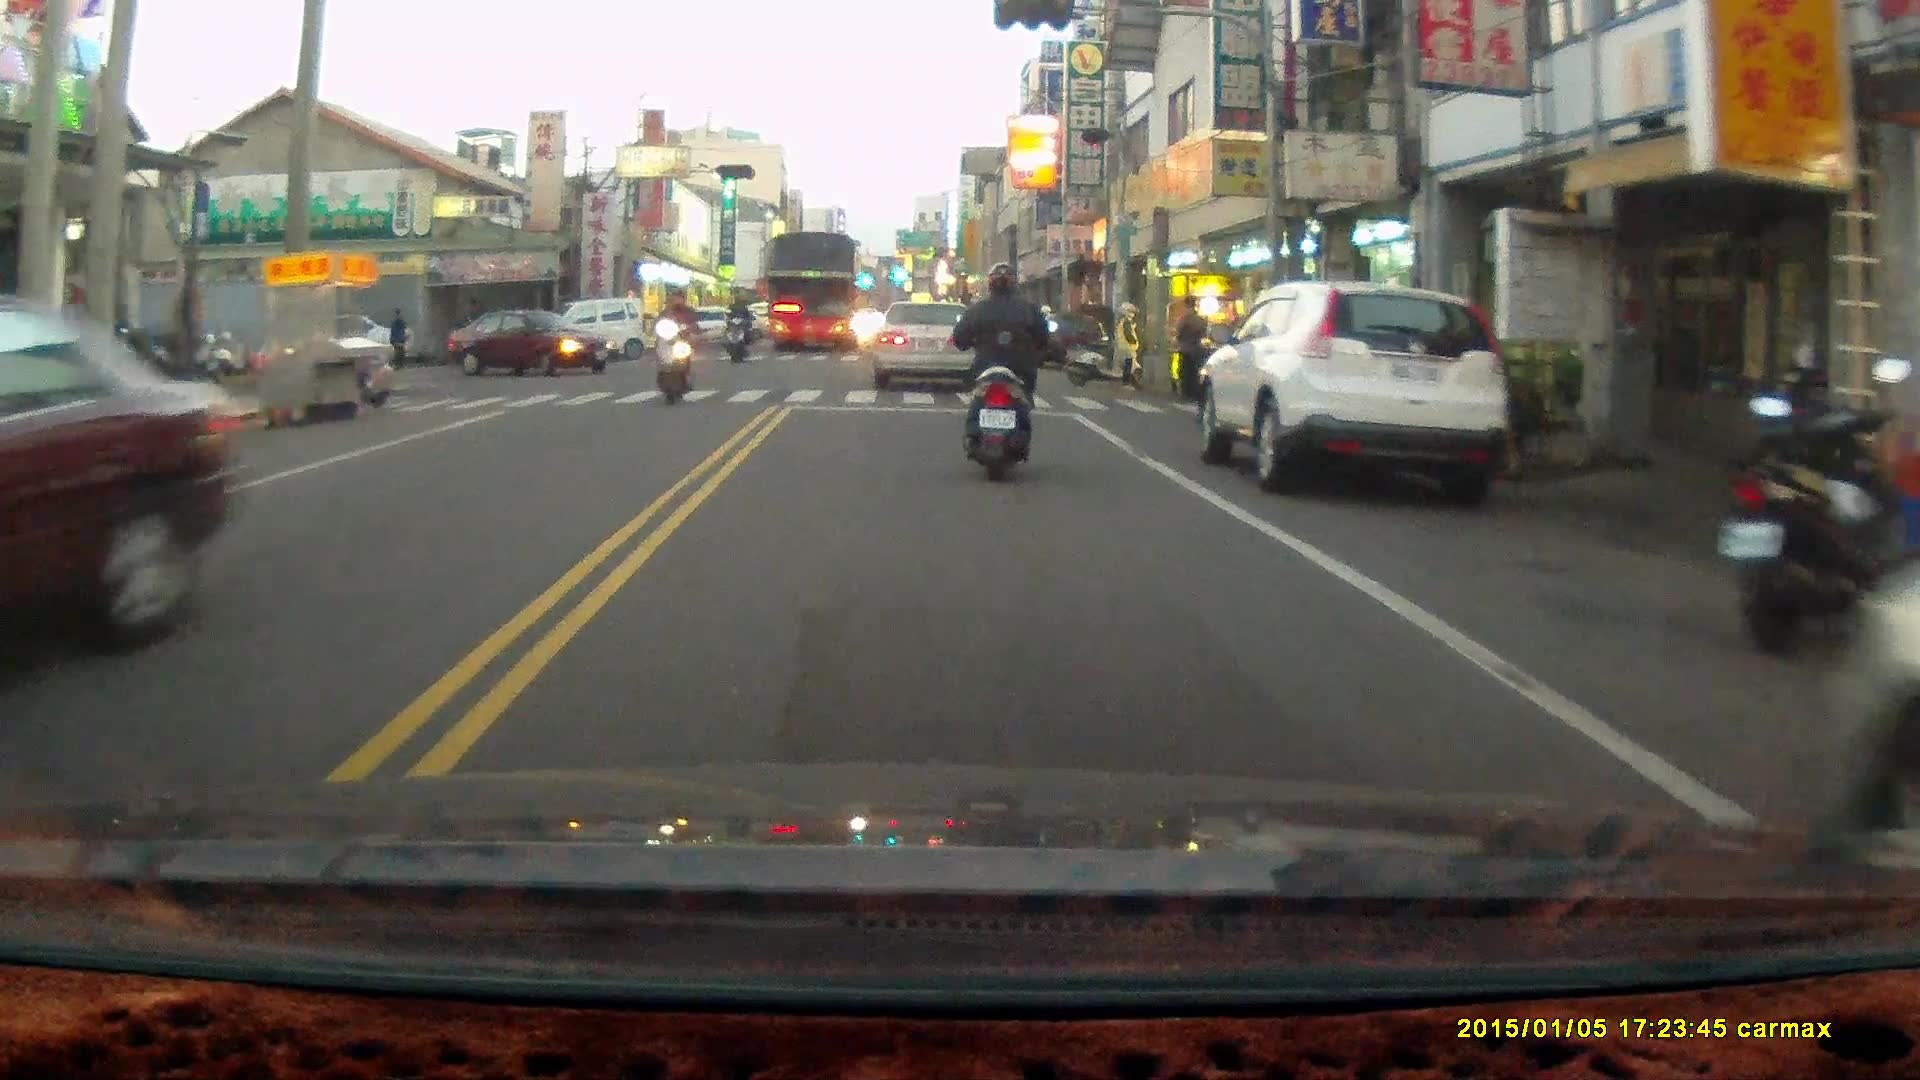pedestrian: (1175, 293, 1207, 401), (1114, 297, 1147, 389), (386, 302, 409, 367)
rider: (952, 258, 1050, 479), (645, 280, 695, 406), (725, 290, 750, 359)
vehicle: (1, 294, 240, 696), (1200, 279, 1509, 492), (756, 232, 865, 350), (457, 306, 613, 382), (872, 300, 982, 392)
